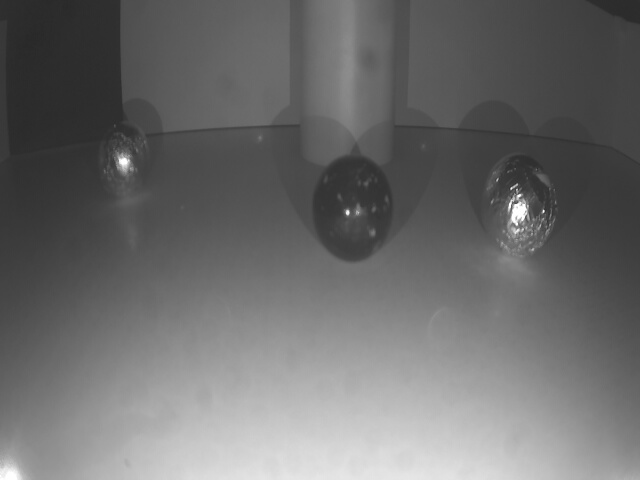Dead: (311, 153, 394, 265)
Live: (482, 151, 557, 260), (96, 121, 150, 196)
